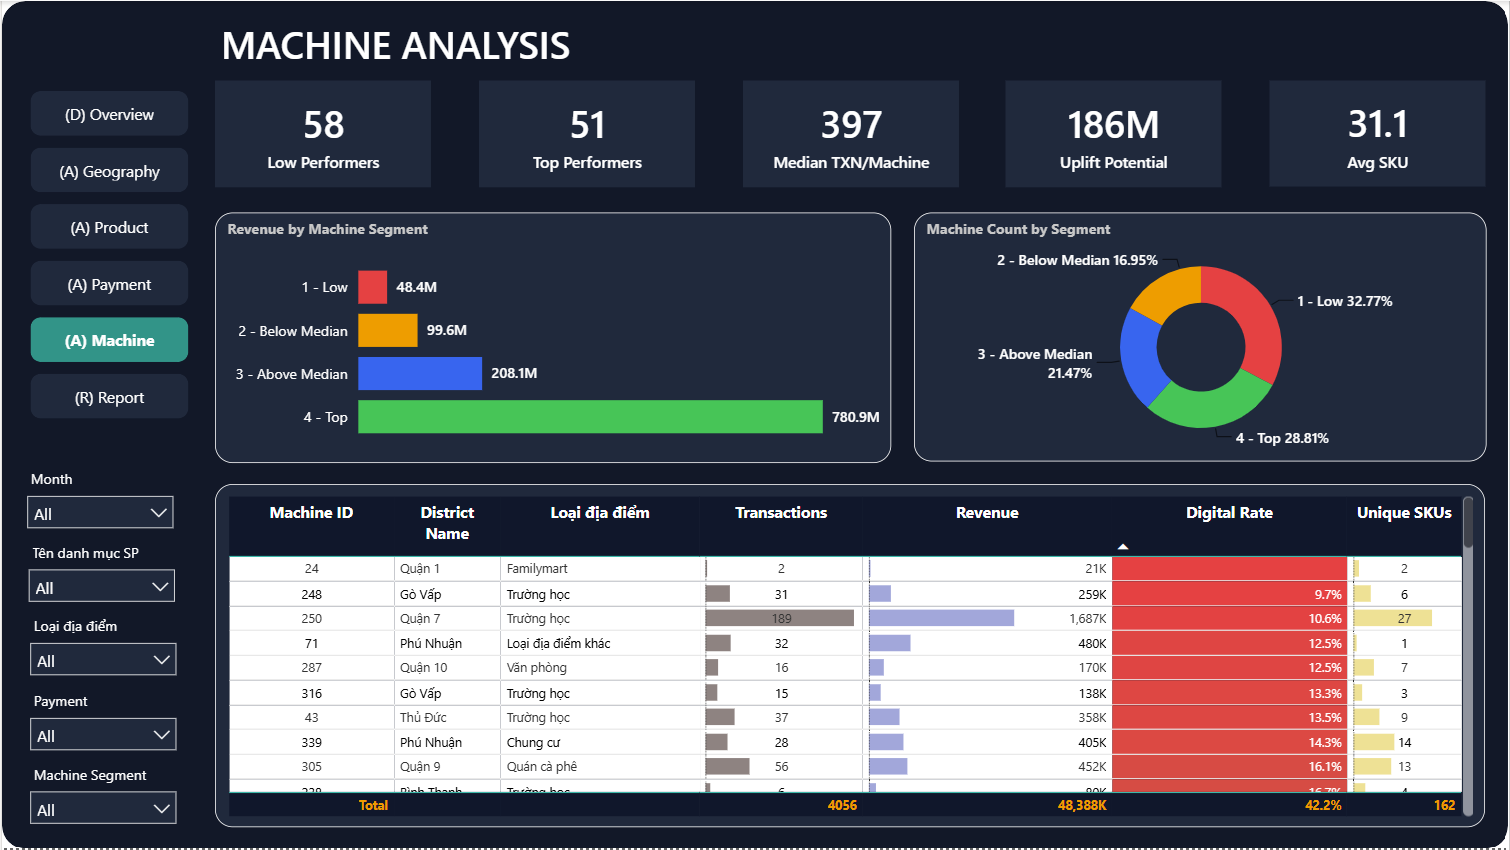

What the dashboard file says about the page in this screenshot:
{"tool":"powerbi","page":{"name":"(A) Machine","canvas":[1280,720],"ordinal":4},"visuals":[{"type":"group","id":"g1","title":"Background","box":[0,0,1279.6,720.6],"z":0},{"type":"shape","box":[0,0,1279.1,720],"z":0,"group":"g1"},{"type":"slicer","fields":{"Values":["dDate.MonthName"]},"box":[11.9,391.7,143.7,59.3],"z":0,"group":"g2"},{"type":"textbox","box":[180.8,8.9,373.1,54.7],"z":1000},{"type":"slicer","fields":{"Values":["dSanPham.Tên danh mục SP"]},"box":[13.2,454.3,143.7,59.3],"z":1000,"group":"g2"},{"type":"group","id":"g2","title":"Filter","box":[11.9,391.7,146.4,309.9],"z":2000},{"type":"slicer","fields":{"Values":["dDiaDiemCha.Loại địa điểm"]},"box":[14.5,517,143.7,59.3],"z":2000,"group":"g2"},{"type":"card","fields":{"Values":["Count(fBanHang.VendingMachineId)"]},"box":[404.6,67.5,183.3,90.4],"z":3000},{"type":"slicer","fields":{"Values":["dPaymentType.PaymentName"]},"box":[14.5,579.6,143.7,59.3],"z":3000,"group":"g2"},{"type":"card","fields":{"Values":["Count(fBanHang.VendingMachineId)"]},"box":[180.8,67.5,183.3,90.4],"z":4000},{"type":"slicer","fields":{"Values":["fBanHang.Machine Segment"]},"box":[14.5,642.3,143.7,59.3],"z":4000,"group":"g2"},{"type":"card","fields":{"Values":["fBanHang.Median TXN per Machine"]},"box":[628.3,67.5,183.3,90.4],"z":5000},{"type":"clusteredBarChart","title":"Revenue by Machine Segment","fields":{"Category":["fBanHang.Machine Segment"],"Y":["Sum(fBanHang.Sales)"]},"box":[180.8,179.5,574.2,212.6],"z":6000},{"type":"card","fields":{"Values":["fBanHang.Uplift Potential"]},"box":[852.1,67.5,183.3,90.4],"z":7000},{"type":"card","fields":{"Values":["fBanHang.Avg SKU Machines"]},"box":[1076.1,67.8,183,89.8],"z":8000},{"type":"donutChart","title":"Machine Count by Segment","fields":{"Y":["Count(fBanHang.VendingMachineId)"],"Category":["fBanHang.Machine Segment"]},"box":[773.8,180.1,485.8,211.2],"z":9000},{"type":"tableEx","title":"Machine Count by Segment","fields":{"Values":["fBanHang.VendingMachineId","dDiaDiemCha.District Name","dDiaDiemCha.Loại địa điểm","fBanHang.COUNT_Transaction","Sum(fBanHang.Sales)","fBanHang.Digital Rate %","fBanHang.Unique SKU Count"]},"box":[181.3,410.1,1077.8,291.5],"z":10000},{"type":"pageNavigator","box":[23.7,76.5,134.5,283.5],"z":11000}]}

Visuals, with their boxes in screenshot pixels (x1, y1, x2, y2), scaled from the page's 1280x720 canvas onto the 1510x850 screenshot:
"Background" group: bbox=[0, 0, 1509, 849]
shape: bbox=[0, 0, 1509, 849]
slicer - dDate.MonthName: bbox=[14, 462, 184, 532]
textbox: bbox=[213, 11, 653, 75]
slicer - dSanPham.Tên danh mục SP: bbox=[16, 536, 185, 606]
"Filter" group: bbox=[14, 462, 187, 828]
slicer - dDiaDiemCha.Loại địa điểm: bbox=[17, 610, 187, 680]
card - Count(fBanHang.VendingMachineId): bbox=[477, 80, 694, 186]
slicer - dPaymentType.PaymentName: bbox=[17, 684, 187, 754]
card - Count(fBanHang.VendingMachineId): bbox=[213, 80, 430, 186]
slicer - fBanHang.Machine Segment: bbox=[17, 758, 187, 828]
card - fBanHang.Median TXN per Machine: bbox=[741, 80, 957, 186]
"Revenue by Machine Segment" clusteredBarChart: bbox=[213, 212, 891, 463]
card - fBanHang.Uplift Potential: bbox=[1005, 80, 1221, 186]
card - fBanHang.Avg SKU Machines: bbox=[1269, 80, 1485, 186]
"Machine Count by Segment" donutChart: bbox=[913, 213, 1486, 462]
"Machine Count by Segment" tableEx: bbox=[214, 484, 1485, 828]
pageNavigator: bbox=[28, 90, 187, 425]
